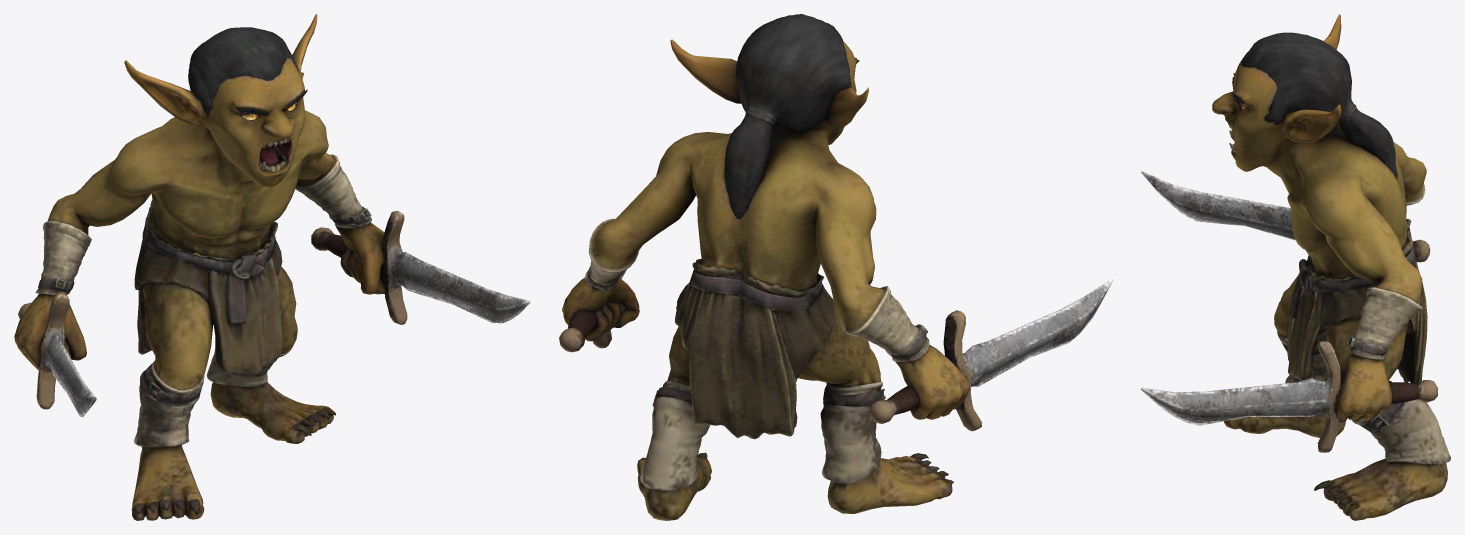
The model's file is MZ4250 - Goblin Minion_2 2025.glb.
3 views of the same model, side by side, from view 1: azimuth 30°, elevation 25°; view 2: azimuth 150°, elevation 25°; view 3: azimuth 270°, elevation 25° (orthographic). The views are drawn at different scales.
Visible parts, largest first — view 1: Goblin Minion 1.001; view 2: Goblin Minion 1.001; view 3: Goblin Minion 1.001.
Boxes of the visible parts, x1,y1,x2,y2 form: Goblin Minion 1.001: (14,14,530,520); Goblin Minion 1.001: (559,14,1112,520); Goblin Minion 1.001: (1141,14,1450,520).
Bounding box in the file's own units: 60.49 × 58.67 × 38.16.
Materials: 1 (1 with a texture image).
